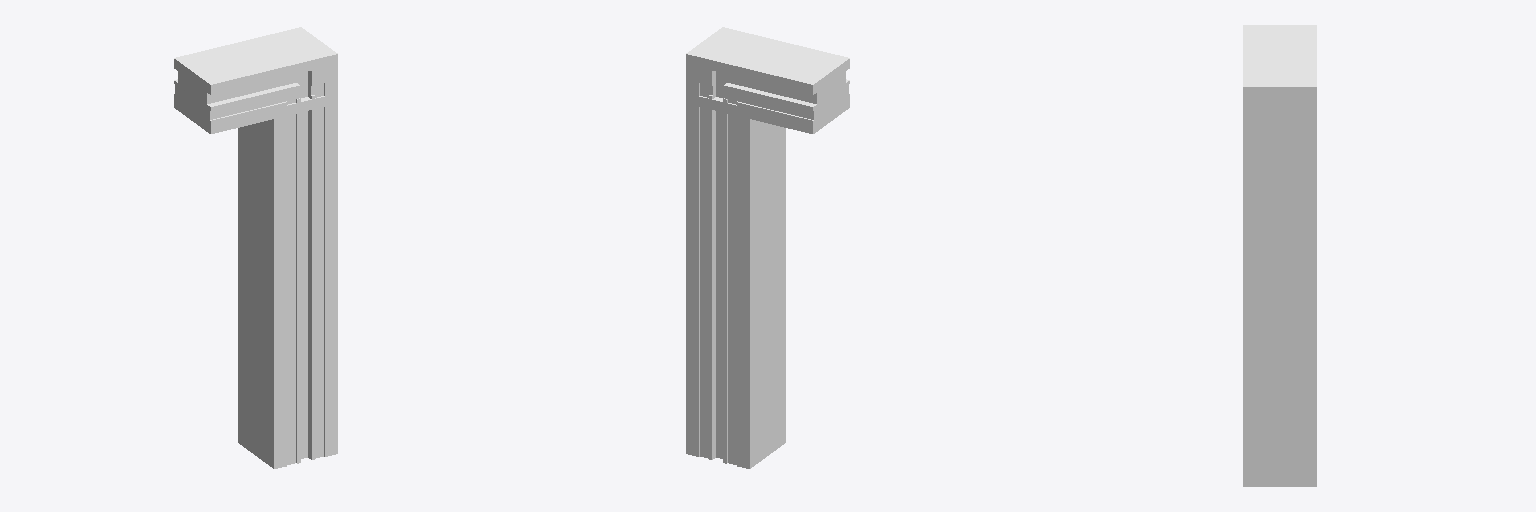
File: GloryCubeYseg1-3-End.obj
The picture shows the model from 3 angles: view 1: azimuth 30°, elevation 25°; view 2: azimuth 150°, elevation 25°; view 3: azimuth 270°, elevation 25°; orthographic projection.
Visible parts, largest first — view 1: End; view 2: End; view 3: End.
Part boxes in pixels (bbox=[...]): End: bbox=[174, 27, 337, 468]; End: bbox=[686, 27, 849, 468]; End: bbox=[1243, 25, 1316, 486].
Bounding box in the file's own units: 7.8 × 23.4 × 3.9.